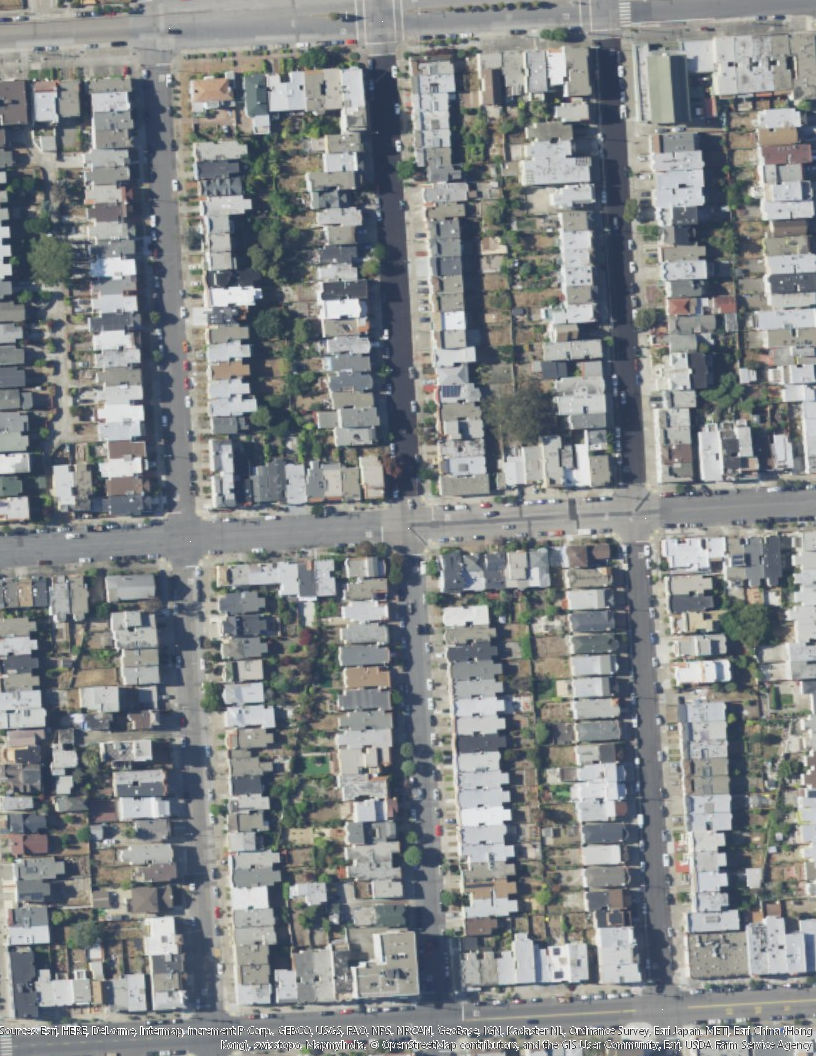zebracross: (617, 1, 633, 28)
